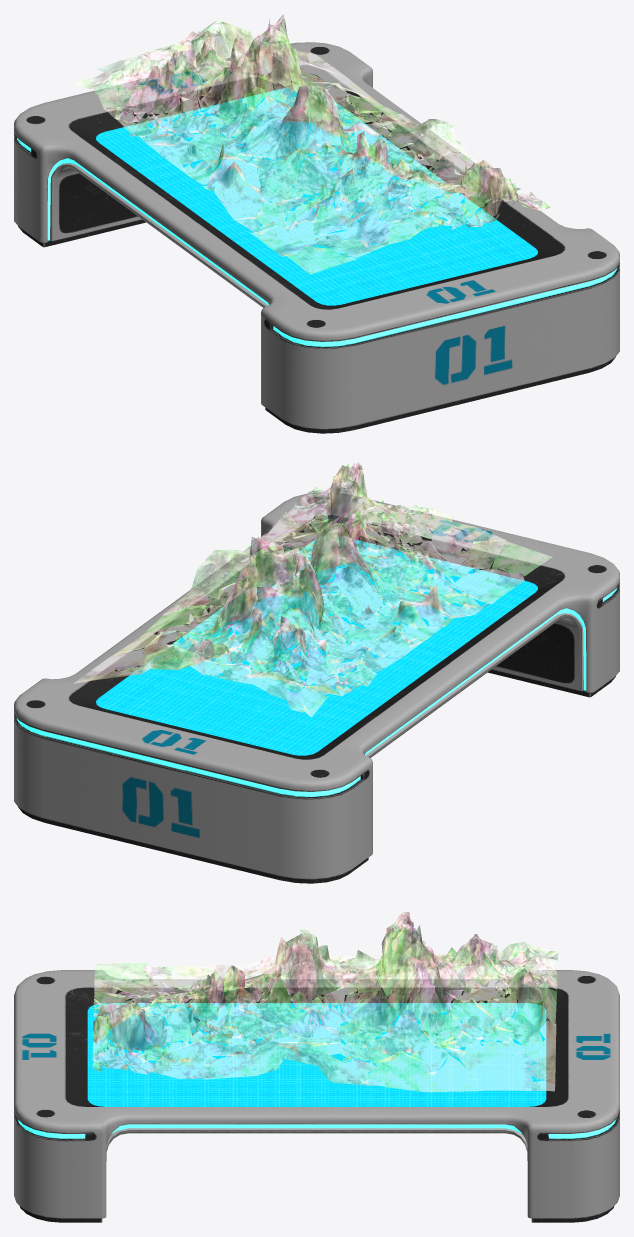
The model's file is hologram.glb.
3 views of the same model, one above another, from view 1: azimuth 30°, elevation 25°; view 2: azimuth 150°, elevation 25°; view 3: azimuth 270°, elevation 25° (orthographic). The views are drawn at different scales.
Parts seen in each view (by area): view 1: Object_3, Object_2; view 2: Object_3, Object_2; view 3: Object_3, Object_2.
Boxes of the visible parts, x1,y1,x2,y2 form: Object_3: (14,42,619,433); Object_2: (74,14,549,274); Object_3: (14,492,619,883); Object_2: (74,462,552,717); Object_3: (14,970,619,1222); Object_2: (92,912,558,1092).
Bounding box in the file's own units: 2.34 × 1.58 × 3.81.
Materials: 2 (2 with a texture image).
